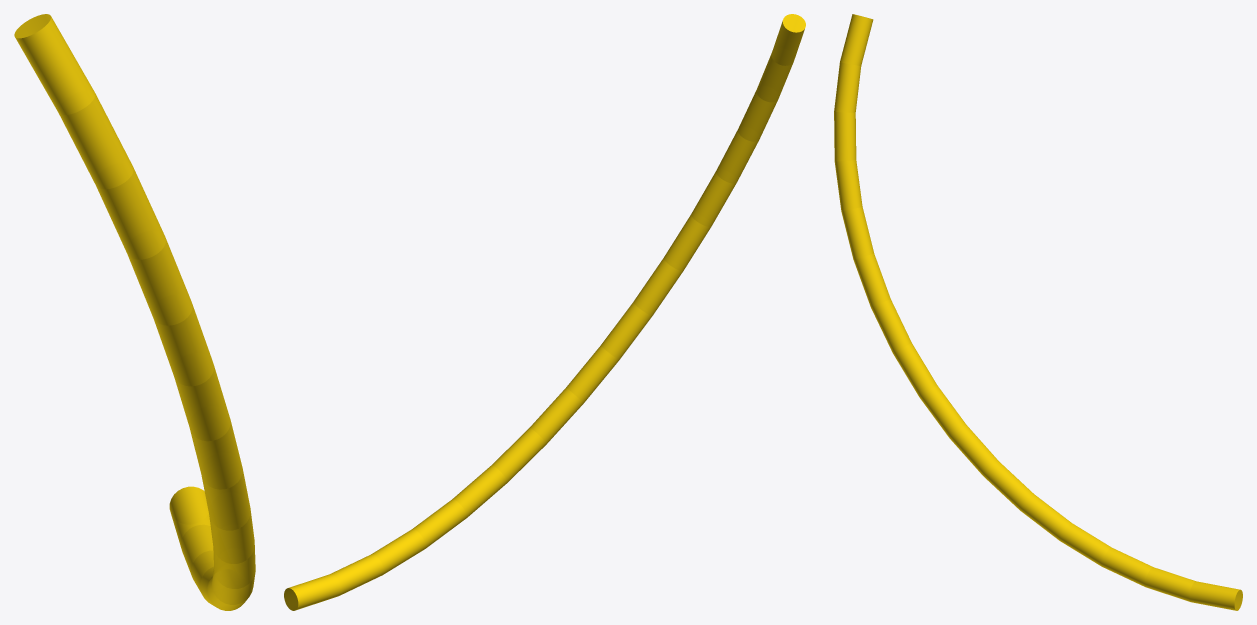
The model's file is Event_421127236_track_40.fbx.
3 renders of one model, left to right at view 1: azimuth 30°, elevation 25°; view 2: azimuth 150°, elevation 25°; view 3: azimuth 270°, elevation 25°, orthographic. The views are drawn at different scales.
Visible parts, largest first — view 1: Model; view 2: Model; view 3: Model.
Boxes of the visible parts, x1=… form: Model: x1=14, y1=14, x2=255, y2=610; Model: x1=284, y1=14, x2=805, y2=610; Model: x1=834, y1=14, x2=1242, y2=610.
Size of the model in its own units: 0.6107 by 0.9491 by 0.7541.
